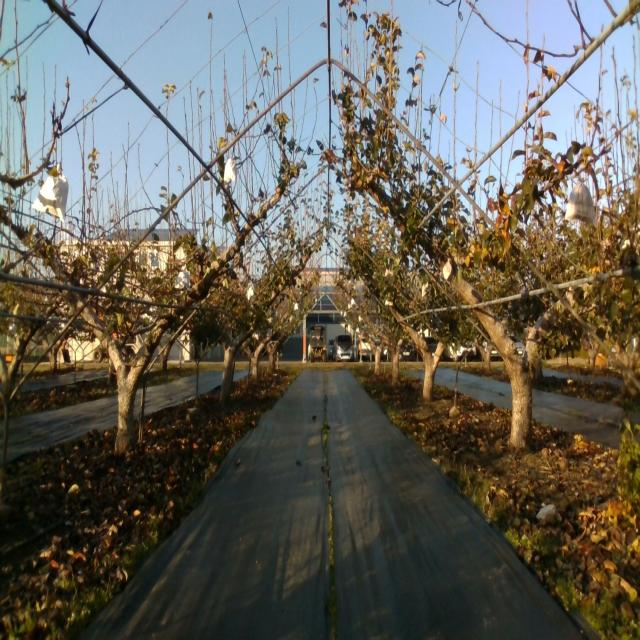pearbags: (31, 163, 70, 224), (564, 176, 597, 223), (175, 264, 191, 292), (223, 158, 237, 183), (443, 258, 453, 282)
